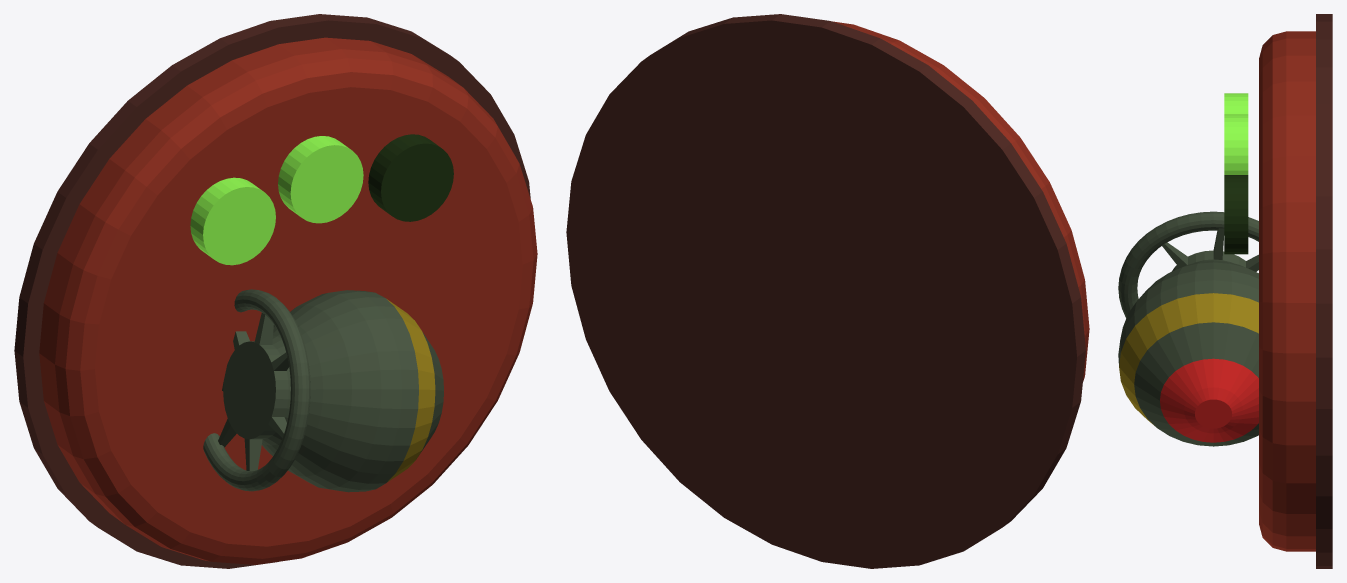
The model's file is NukeButton3.glb.
3 views of the same model, side by side, from view 1: azimuth 30°, elevation 25°; view 2: azimuth 150°, elevation 25°; view 3: azimuth 270°, elevation 25° (orthographic). The views are drawn at different scales.
Visible parts, largest first — view 1: Cylinder.009, Cylinder.005, Cylinder.008, Cylinder.006, Cylinder.007; view 2: Cylinder.009; view 3: Cylinder.009, Cylinder.005, Cylinder.008, Cylinder.006, Cylinder.007.
Part boxes in pixels (x1,y1,x2,y2): Cylinder.009: (14, 14, 537, 568); Cylinder.005: (203, 289, 444, 492); Cylinder.008: (368, 134, 453, 221); Cylinder.006: (278, 136, 363, 223); Cylinder.007: (190, 177, 275, 265); Cylinder.009: (566, 14, 1089, 568); Cylinder.009: (1259, 14, 1332, 568); Cylinder.005: (1118, 211, 1258, 446); Cylinder.008: (1224, 175, 1248, 254); Cylinder.006: (1224, 114, 1248, 174); Cylinder.007: (1224, 93, 1248, 114).
Size of the model in its own units: 1 by 1 by 0.3858.
